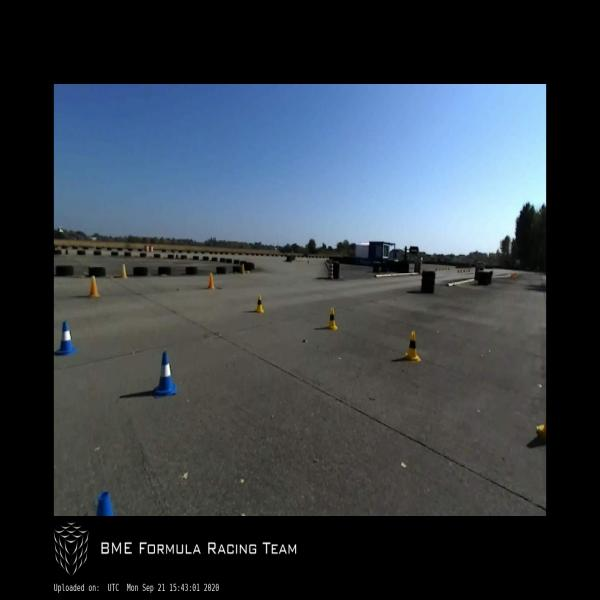blue_cone: (152, 351, 177, 398), (54, 320, 78, 356)
orange_cone: (88, 276, 100, 298), (206, 272, 216, 290)
unknown_cone: (120, 264, 128, 278), (240, 264, 246, 275)
yellow_cone: (405, 330, 422, 362), (327, 307, 338, 331), (254, 295, 264, 314)
